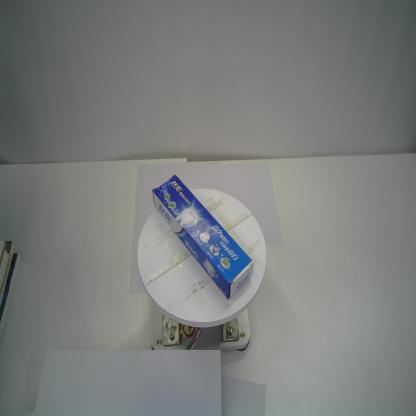Personal Hygiene: (151, 172, 255, 302)
